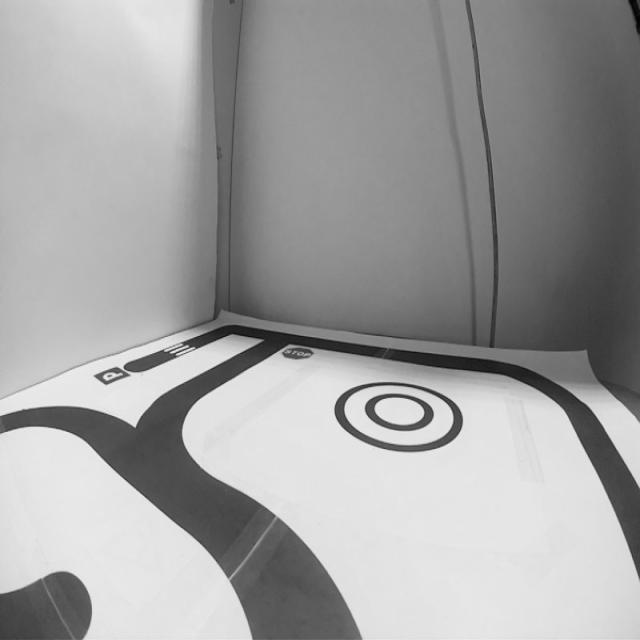cockade: (332, 375, 464, 459)
laneLeftTurn: (199, 458, 375, 640)
